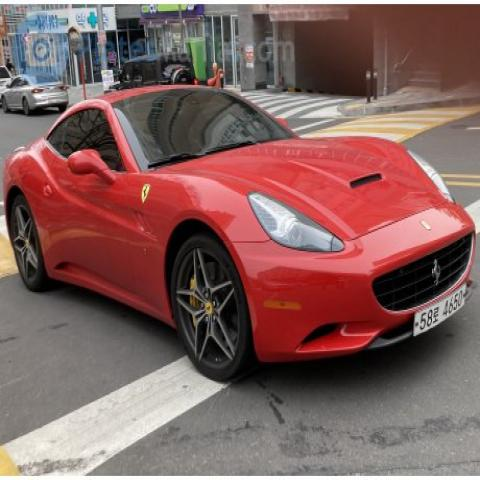LP: (409, 275, 469, 349)
